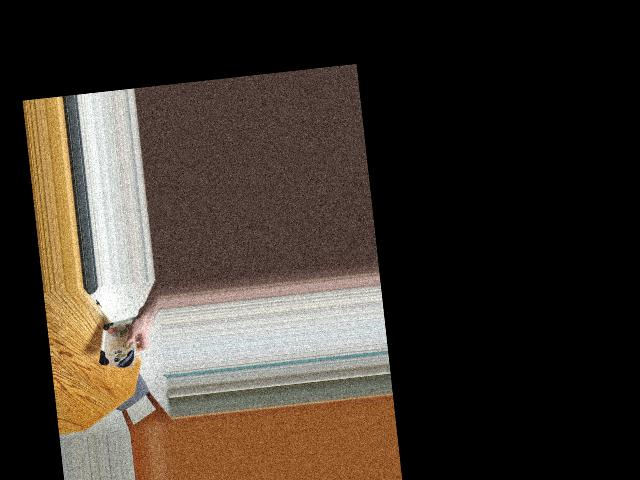cheese: (97, 308, 142, 372)
